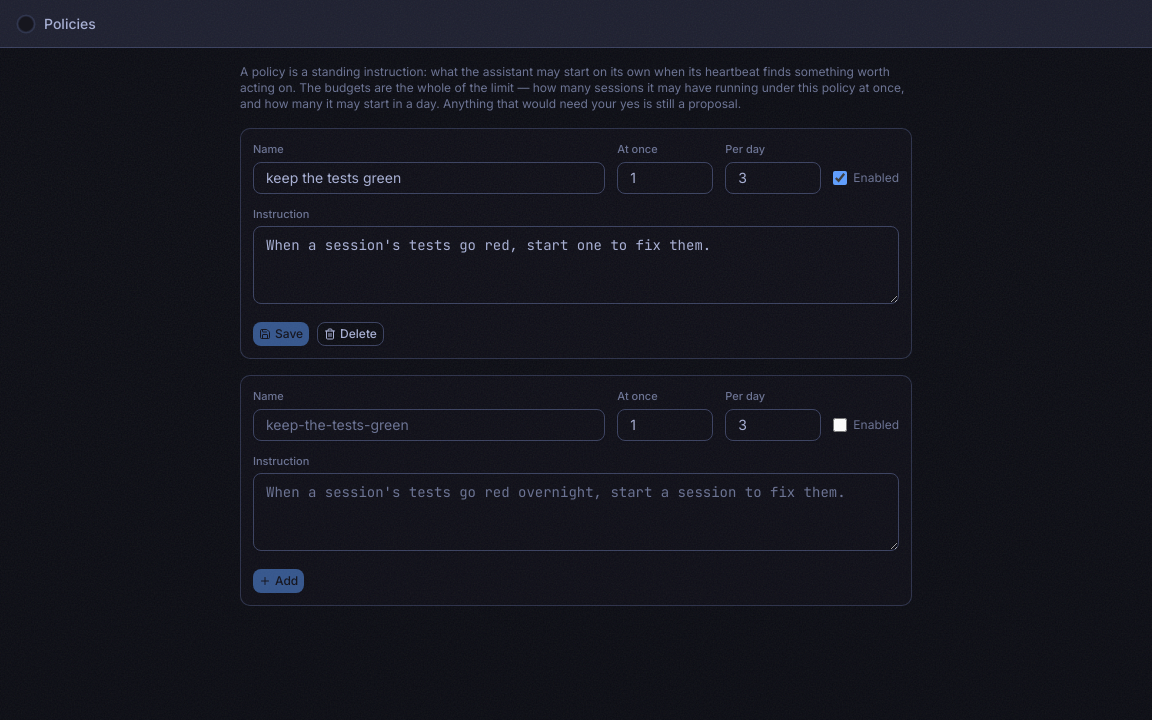
Scenario: AssistantPoliciesPage › sends the edited row and renders what came back
Replace the text in the 1st field labelled "Name" with "green tests" at {"x": 429, "y": 178}, box top-left (253, 162), bottom-right (605, 194)
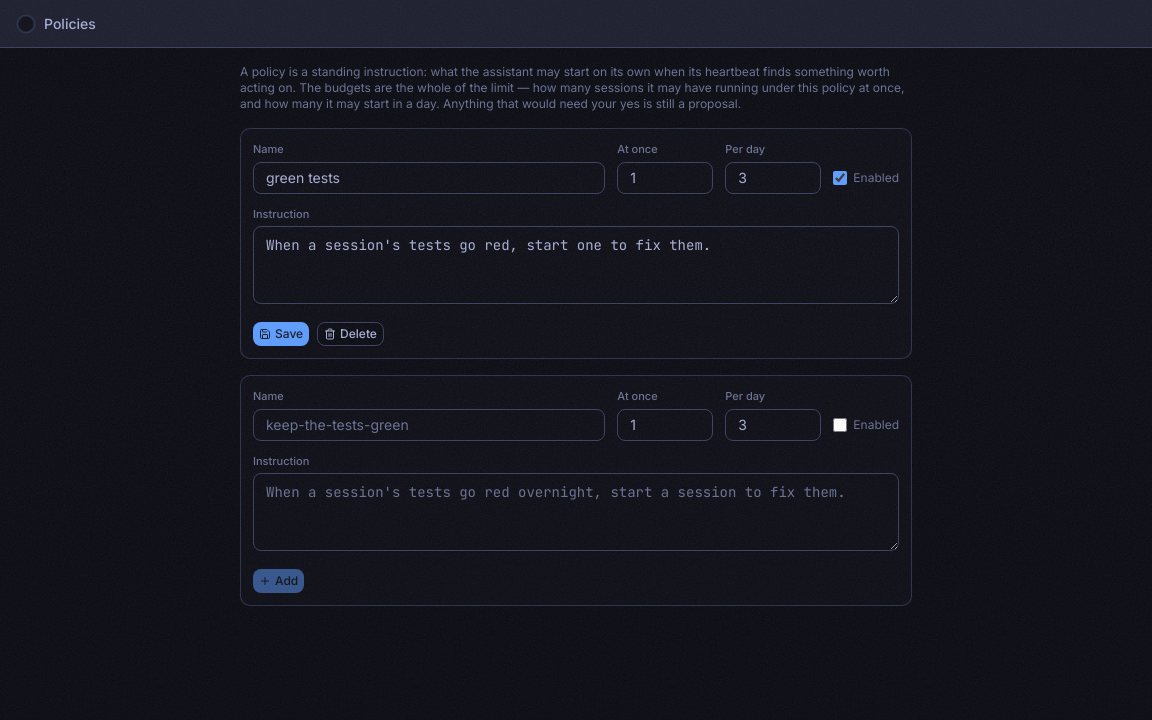
Click the button "Save" at {"x": 281, "y": 334}, box top-left (253, 322), bottom-right (309, 346)
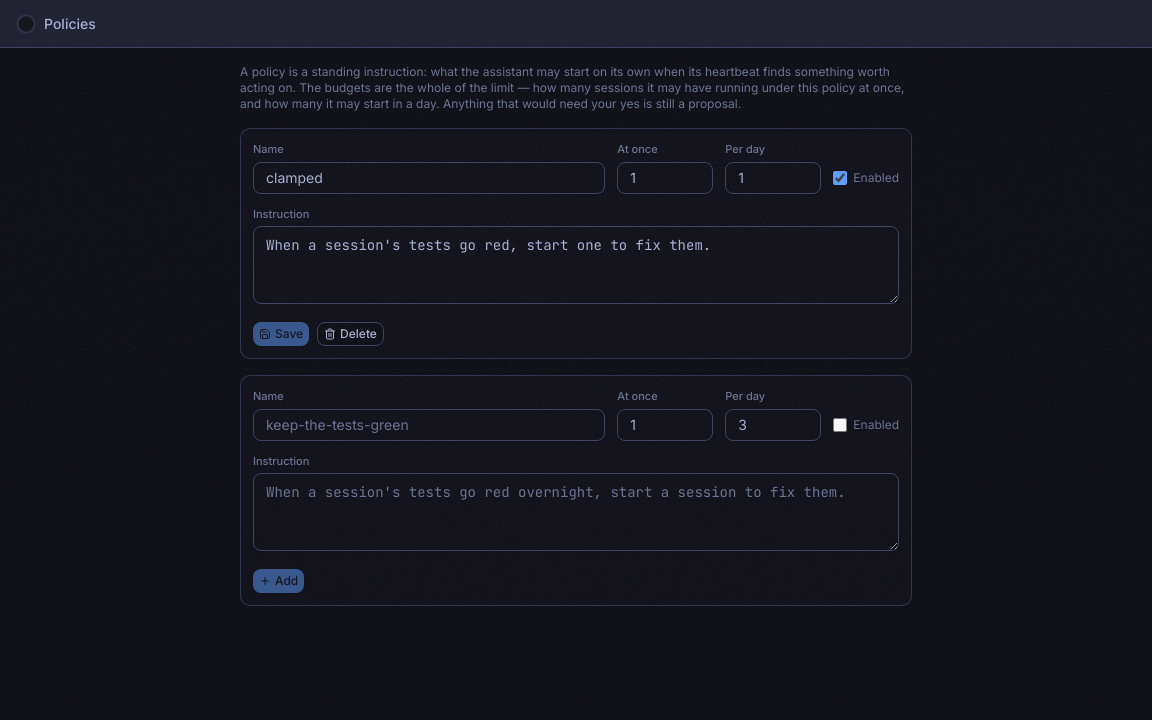
Result: the 1st field labelled "Name" holds "clamped" at top-left (253, 162), bottom-right (605, 194)
Result: the 1st number field labelled "Per day" holds "1" at top-left (725, 162), bottom-right (821, 194)
